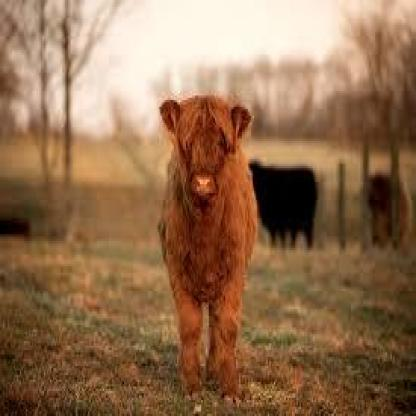cow: (157, 94, 259, 402), (247, 158, 317, 253)
